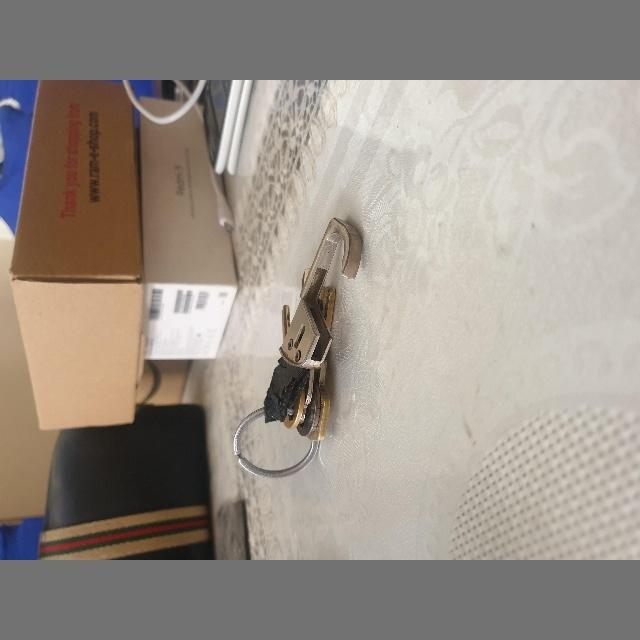Keys: (98, 246, 466, 358)
